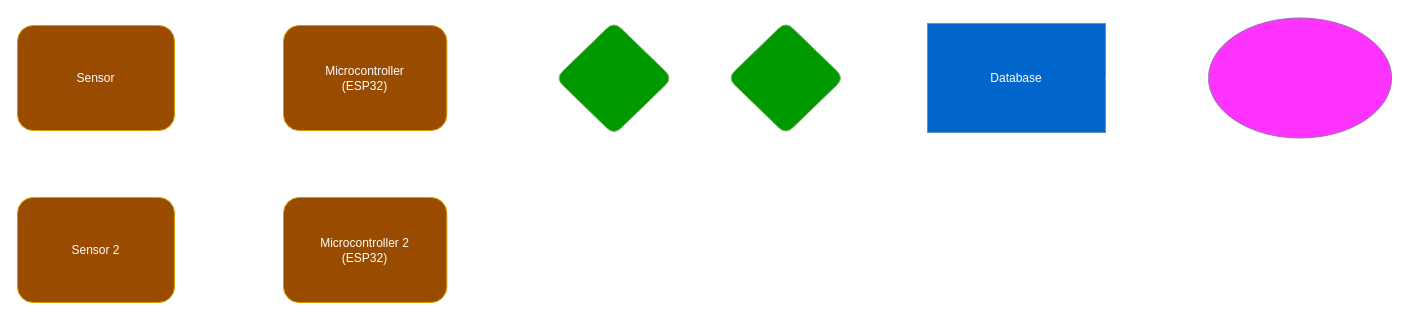
Image size: 1410x320. Some labels were removed from this diagram. Each missing label, with the centre of its shape:
API: pixel 785 77
MQTT: pixel 613 77
Visualization and Analysis: pixel 1300 77
